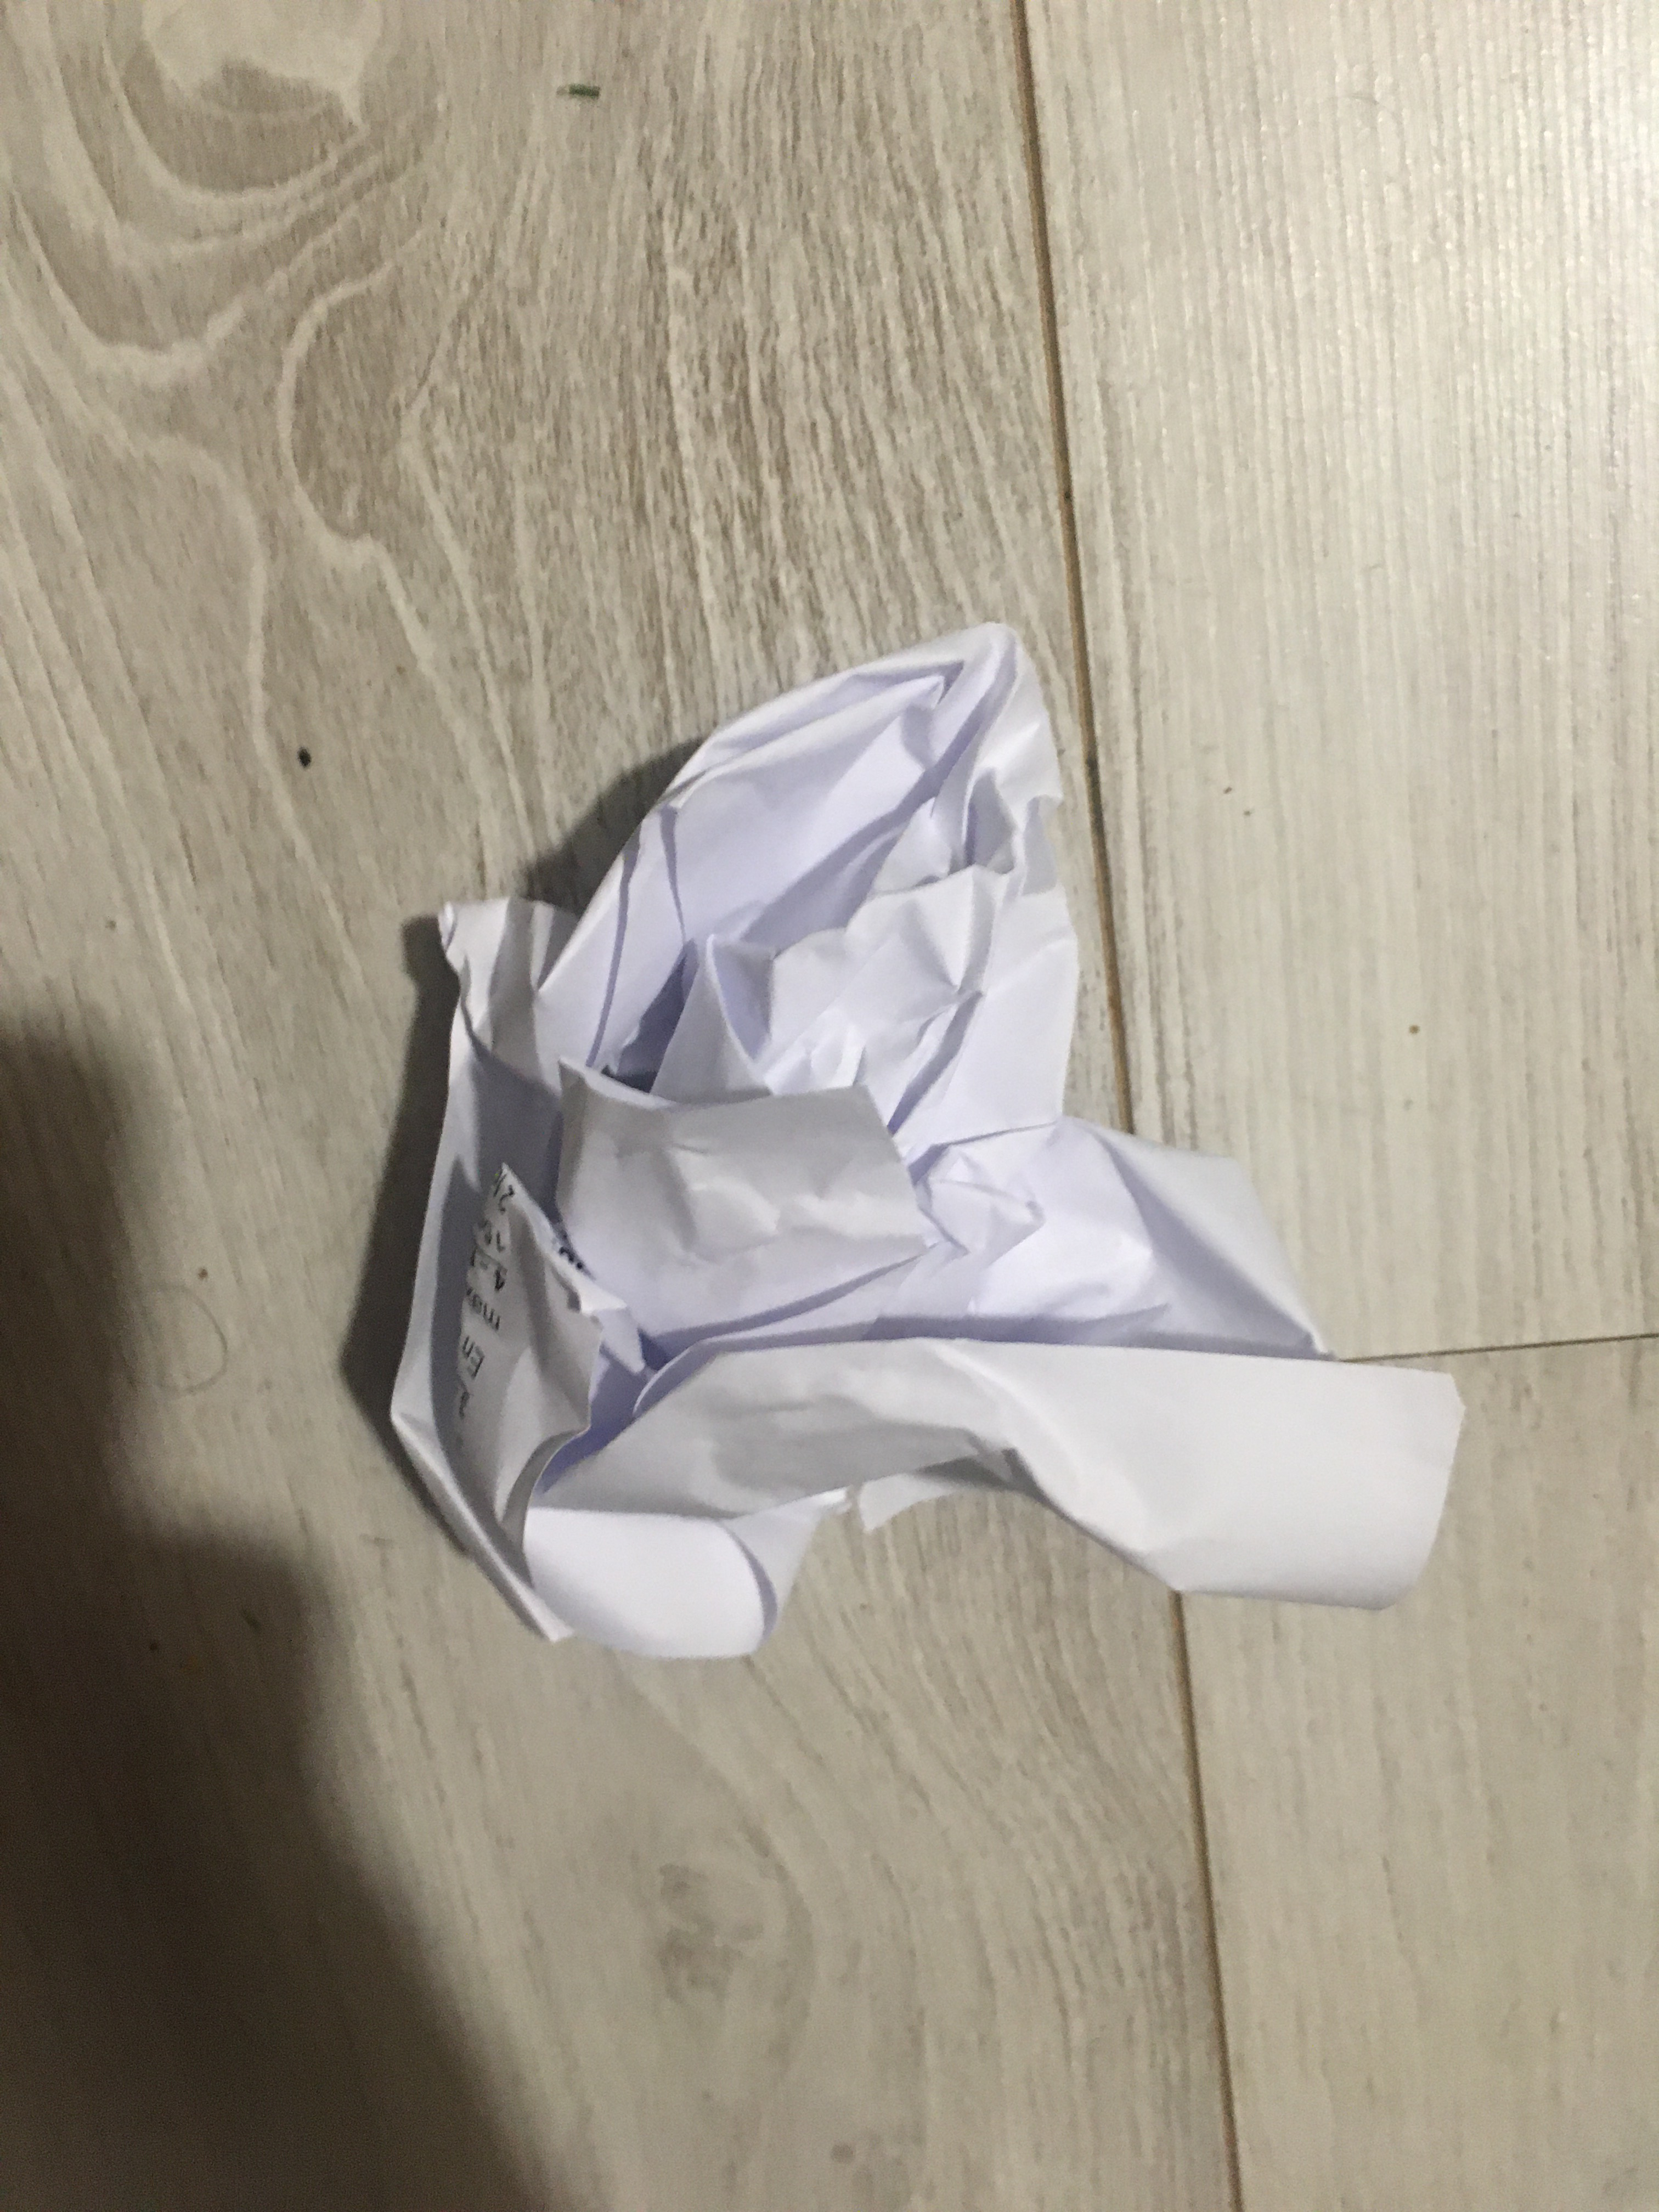paper: (373, 622, 1457, 1656)
